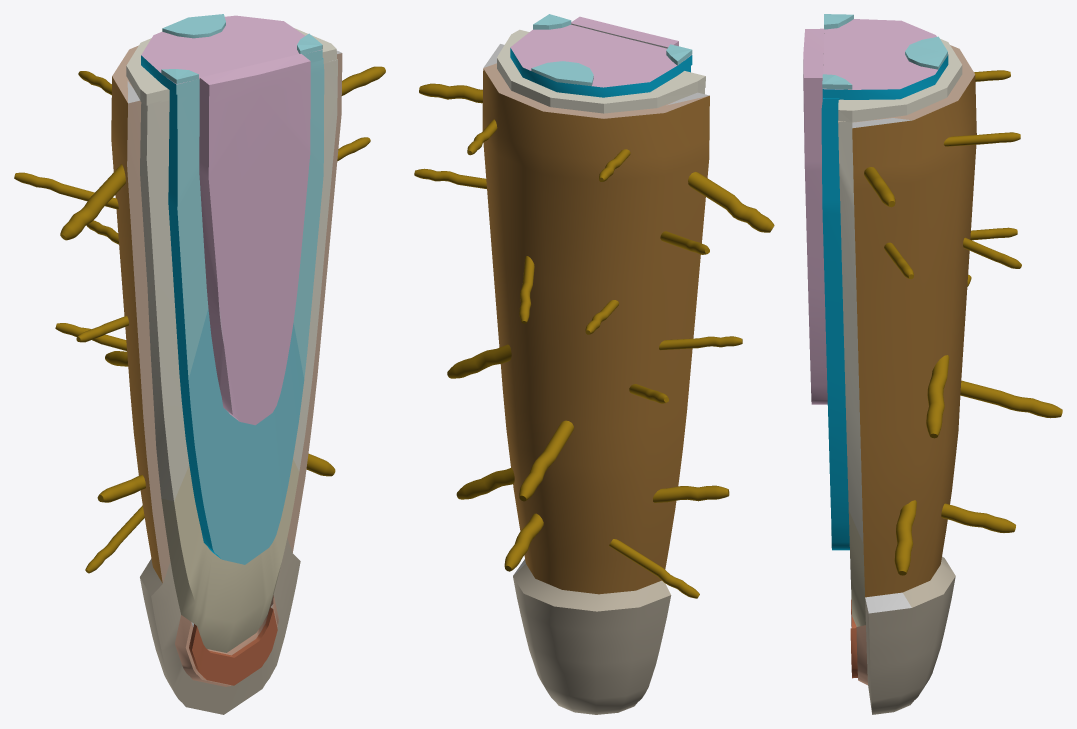
The model's file is meristem_root_edited.glb.
3 views of the same model, side by side, from view 1: azimuth 30°, elevation 25°; view 2: azimuth 150°, elevation 25°; view 3: azimuth 270°, elevation 25° (orthographic).
Parts seen in each view (by area): view 1: New_Game_Object_mat0_0.001, New_Game_Object_mat0_0.002, New_Game_Object, New_Game_Object_mat0_0.005, New_Game_Object_mat0_0.004, New_Game_Object_mat0_0.006, New_Game_Object_mat0_0.010, New_Game_Object_mat0_0.009, New_Game_Object_mat0_0.020, New_Game_Object_mat0_0.008; view 2: New_Game_Object_mat0_0.001, New_Game_Object_mat0_0.002, New_Game_Object, New_Game_Object_mat0_0.005, New_Game_Object_mat0_0.016, New_Game_Object_mat0_0.004, New_Game_Object_mat0_0.010, New_Game_Object_mat0_0.017, New_Game_Object_mat0_0.009, New_Game_Object_mat0_0.021, New_Game_Object_mat0_0.018, New_Game_Object_mat0_0.020 (+3 smaller); view 3: New_Game_Object_mat0_0.001, New_Game_Object_mat0_0.002, New_Game_Object, New_Game_Object_mat0_0.016, New_Game_Object_mat0_0.017, New_Game_Object_mat0_0.021, New_Game_Object_mat0_0.018, New_Game_Object_mat0_0.004, New_Game_Object_mat0_0.014, New_Game_Object_mat0_0.013, New_Game_Object_mat0_0.020, New_Game_Object_mat0_0.015 (+1 smaller).
Part boxes in pixels (x1,y1,x2,y2): New_Game_Object_mat0_0.001: [111, 45, 342, 714]; New_Game_Object_mat0_0.002: [141, 15, 322, 94]; New_Game_Object: [126, 28, 336, 105]; New_Game_Object_mat0_0.005: [60, 164, 125, 240]; New_Game_Object_mat0_0.004: [162, 14, 225, 38]; New_Game_Object_mat0_0.006: [14, 172, 118, 209]; New_Game_Object_mat0_0.010: [85, 505, 144, 573]; New_Game_Object_mat0_0.009: [97, 475, 145, 502]; New_Game_Object_mat0_0.020: [341, 66, 385, 95]; New_Game_Object_mat0_0.008: [55, 323, 126, 350]; New_Game_Object_mat0_0.001: [482, 16, 709, 714]; New_Game_Object_mat0_0.002: [510, 24, 692, 97]; New_Game_Object: [497, 29, 705, 113]; New_Game_Object_mat0_0.005: [688, 172, 774, 232]; New_Game_Object_mat0_0.016: [519, 420, 573, 501]; New_Game_Object_mat0_0.004: [531, 61, 593, 85]; New_Game_Object_mat0_0.010: [609, 539, 699, 598]; New_Game_Object_mat0_0.017: [447, 344, 511, 378]; New_Game_Object_mat0_0.009: [653, 485, 729, 502]; New_Game_Object_mat0_0.021: [456, 468, 514, 499]; New_Game_Object_mat0_0.018: [504, 513, 543, 571]; New_Game_Object_mat0_0.020: [419, 83, 482, 103]; New_Game_Object_mat0_0.001: [803, 28, 976, 714]; New_Game_Object_mat0_0.002: [822, 19, 948, 99]; New_Game_Object: [838, 39, 962, 122]; New_Game_Object_mat0_0.016: [960, 380, 1062, 418]; New_Game_Object_mat0_0.017: [926, 355, 949, 438]; New_Game_Object_mat0_0.021: [894, 500, 916, 575]; New_Game_Object_mat0_0.018: [941, 503, 1015, 532]; New_Game_Object_mat0_0.004: [905, 36, 948, 69]; New_Game_Object_mat0_0.014: [943, 132, 1020, 146]; New_Game_Object_mat0_0.013: [963, 237, 1021, 268]; New_Game_Object_mat0_0.020: [864, 167, 895, 207]; New_Game_Object_mat0_0.015: [970, 227, 1017, 240].
Bounding box in the file's own units: 0.9264 × 1.74 × 0.6169.
